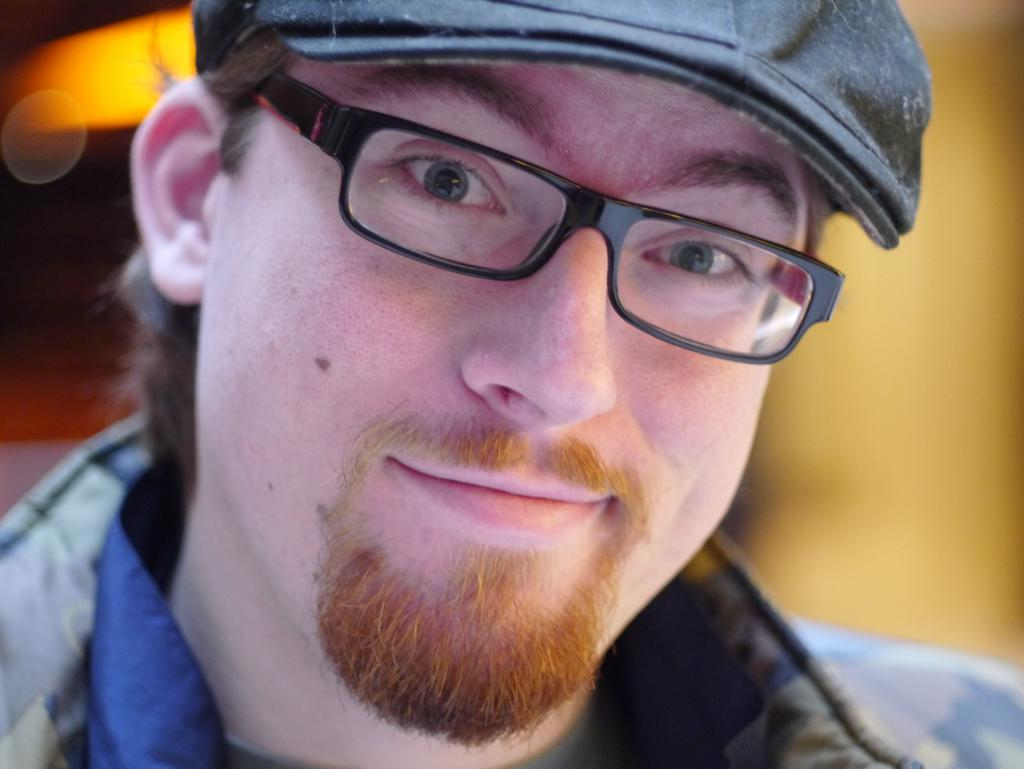Hat: (192, 0, 938, 251)
